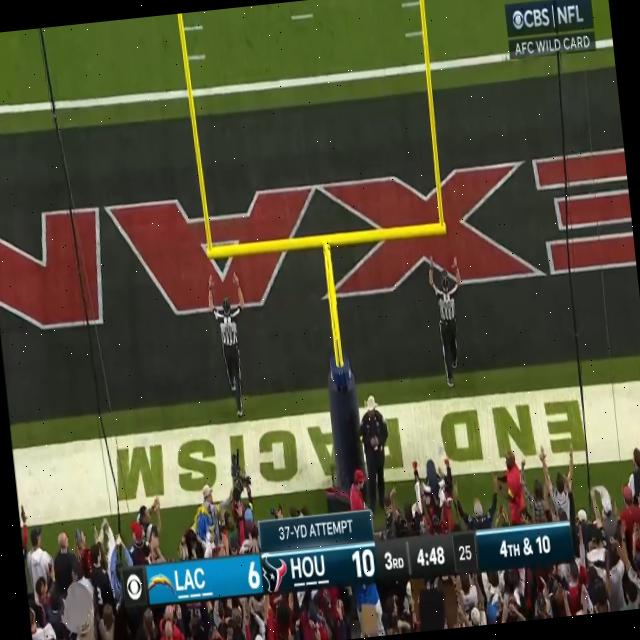Referee: (204, 273, 258, 422), (420, 254, 474, 388)
